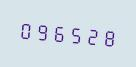eight: (98, 22, 113, 50)
five: (66, 19, 81, 48)
nine: (33, 17, 48, 45)
six: (50, 18, 65, 46)
two: (82, 21, 97, 49)
zero: (17, 15, 32, 43)
